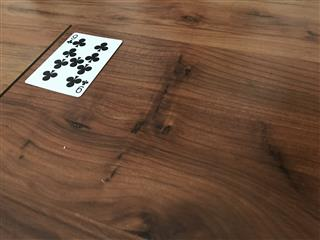NineOfClubs: (23, 31, 122, 97)
